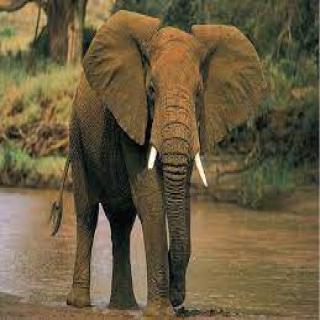Elephant: (51, 5, 272, 317)
